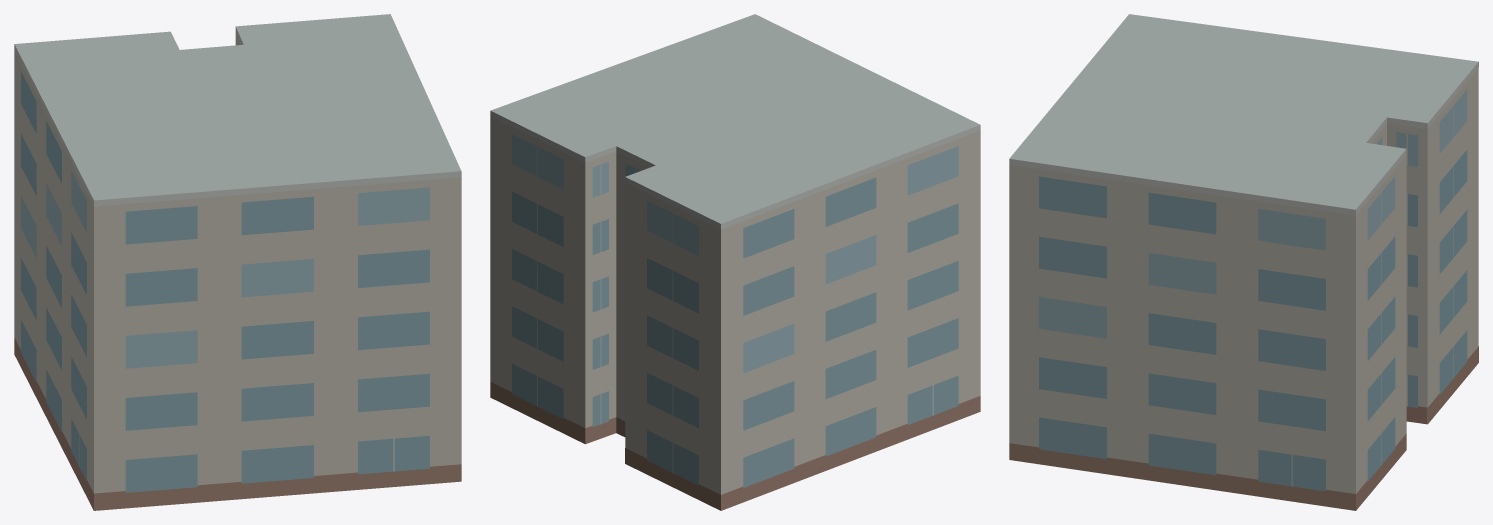
Rendered from survey-upis-32838368.glb.
3 renders of one model, left to right at view 1: azimuth 30°, elevation 25°; view 2: azimuth 150°, elevation 25°; view 3: azimuth 270°, elevation 25°, orthographic. The views are drawn at different scales.
Visible parts, largest first — view 1: survey-upis-32838368.tmp; view 2: survey-upis-32838368.tmp; view 3: survey-upis-32838368.tmp.
Boxes of the visible parts, left/top/right/bottom form: survey-upis-32838368.tmp: left=14, top=14, right=461, bottom=510; survey-upis-32838368.tmp: left=490, top=14, right=980, bottom=510; survey-upis-32838368.tmp: left=1009, top=14, right=1478, bottom=510.
Size of the model in its own units: 17.31 by 12.41 by 17.55.
